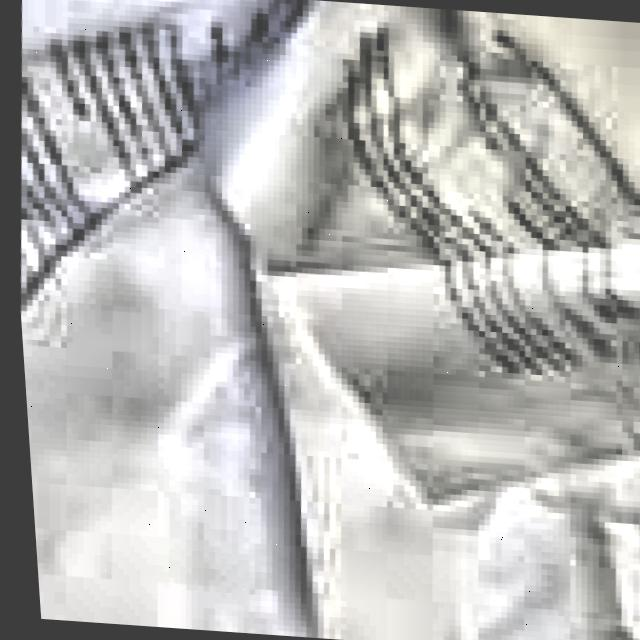paper: (16, 0, 640, 640)
